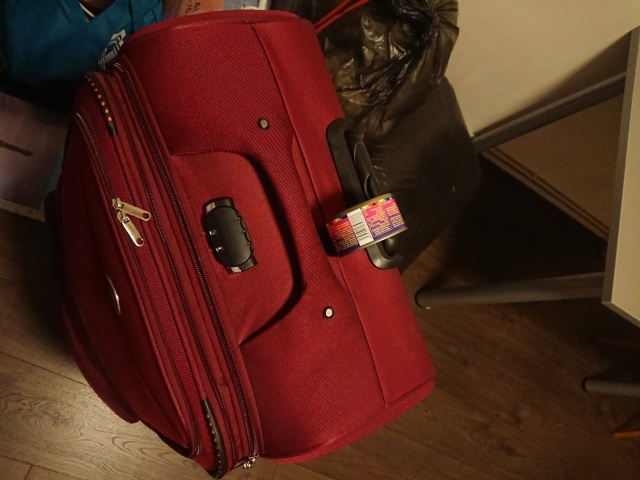Giana Tuna Salad Mexico 185g: (322, 190, 412, 257)
